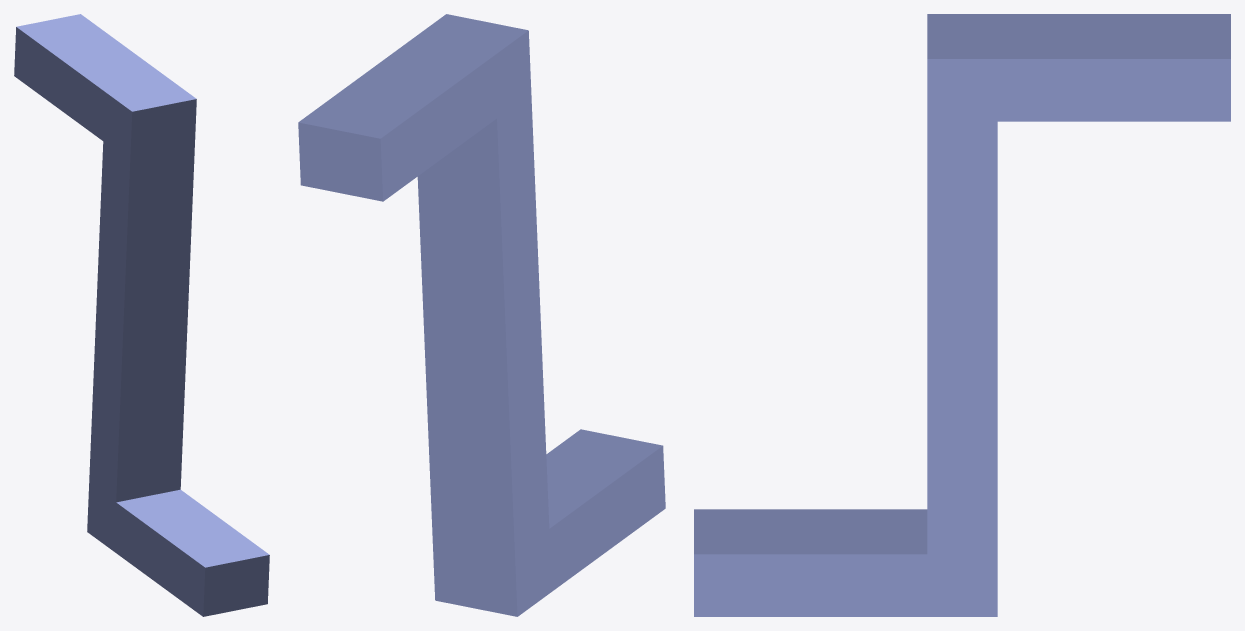
Rendered from Copie de piece pour roue Ass 06^Copie de Assemblage 06_Horloge Comtoise Verge - Sonnerie.obj.
The picture shows the model from 3 angles, left to right: view 1: azimuth 30°, elevation 25°; view 2: azimuth 150°, elevation 25°; view 3: azimuth 270°, elevation 25°; orthographic projection. The views are drawn at different scales.
Visible parts, largest first — view 1: Face_6, Face_1, Face_7, Face_5, Face_10; view 2: Face_3, Face_1, Face_7, Face_5, Face_9; view 3: Face_8, Face_7, Face_5.
Part boxes in pixels (x1=…): Face_6: x1=116, y1=99, x2=196, y2=502; Face_1: x1=14, y1=27, x2=205, y2=616; Face_7: x1=16, y1=14, x2=196, y2=111; Face_5: x1=116, y1=489, x2=269, y2=567; Face_10: x1=203, y1=555, x2=269, y2=616; Face_3: x1=417, y1=118, x2=517, y2=616; Face_1: x1=380, y1=30, x2=665, y2=616; Face_7: x1=298, y1=14, x2=528, y2=138; Face_5: x1=546, y1=429, x2=662, y2=528; Face_9: x1=298, y1=122, x2=383, y2=201; Face_8: x1=694, y1=59, x2=1230, y2=616; Face_7: x1=927, y1=14, x2=1230, y2=58; Face_5: x1=694, y1=509, x2=927, y2=554.
Size of the model in its own units: 0.0023 by 0.0117 by 0.0099.
